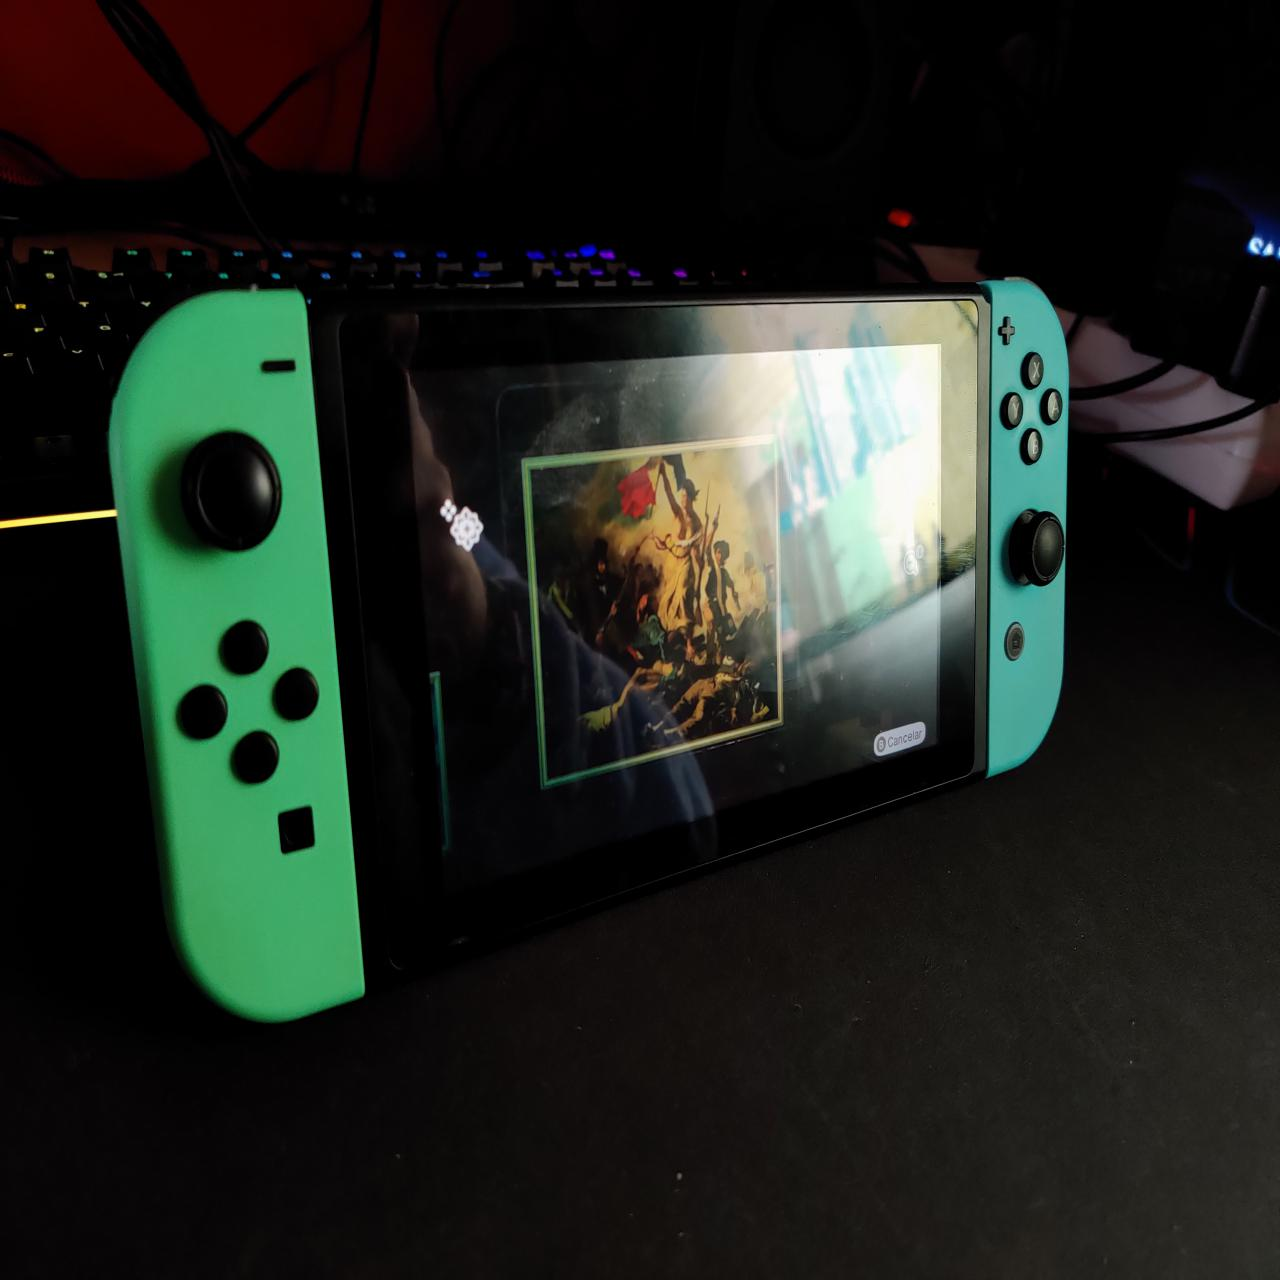LibertyLeading: (536, 467, 787, 749)
